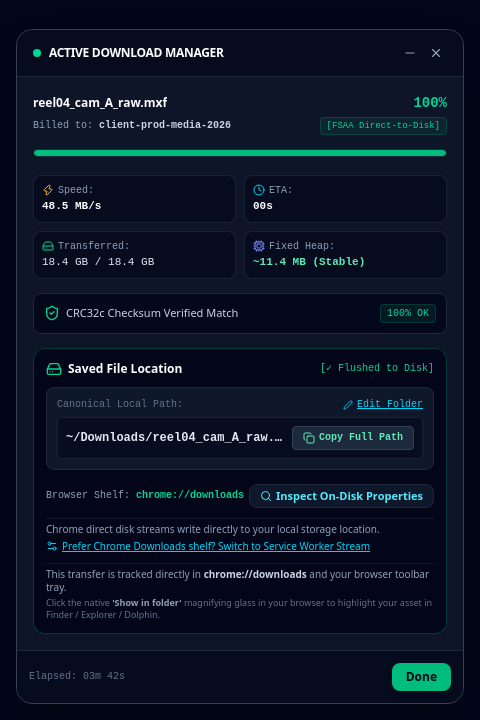
OS File System Feedback & Reveal Integration Tests (Module 12 / Epic 12) › DownloadManagerShell Post-Download Success Card › renders post-download OS reveal controls upon download completion
Expected: the text "Saved File Location" is shown, [68, 361, 182, 377]
Expected: the text "[✓ Flushed to Disk]" is shown, [320, 362, 434, 376]
Click the button "Copy Full Path": (353, 438) [292, 426, 414, 450]
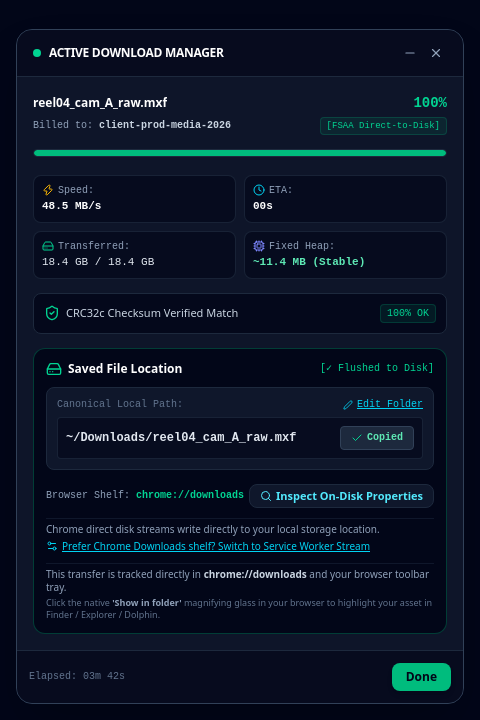
Expected: the text "Copied" is shown, [367, 431, 403, 444]
// Inspect disk handle
Click the button "Inspect On-Disk Properties": (342, 496) [249, 484, 434, 508]
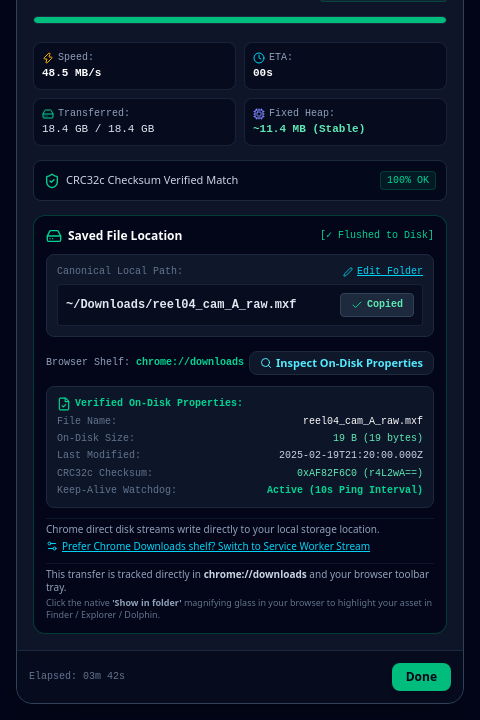
Expected: the text "Verified On-Disk Properties:" is shown, [75, 397, 243, 410]
